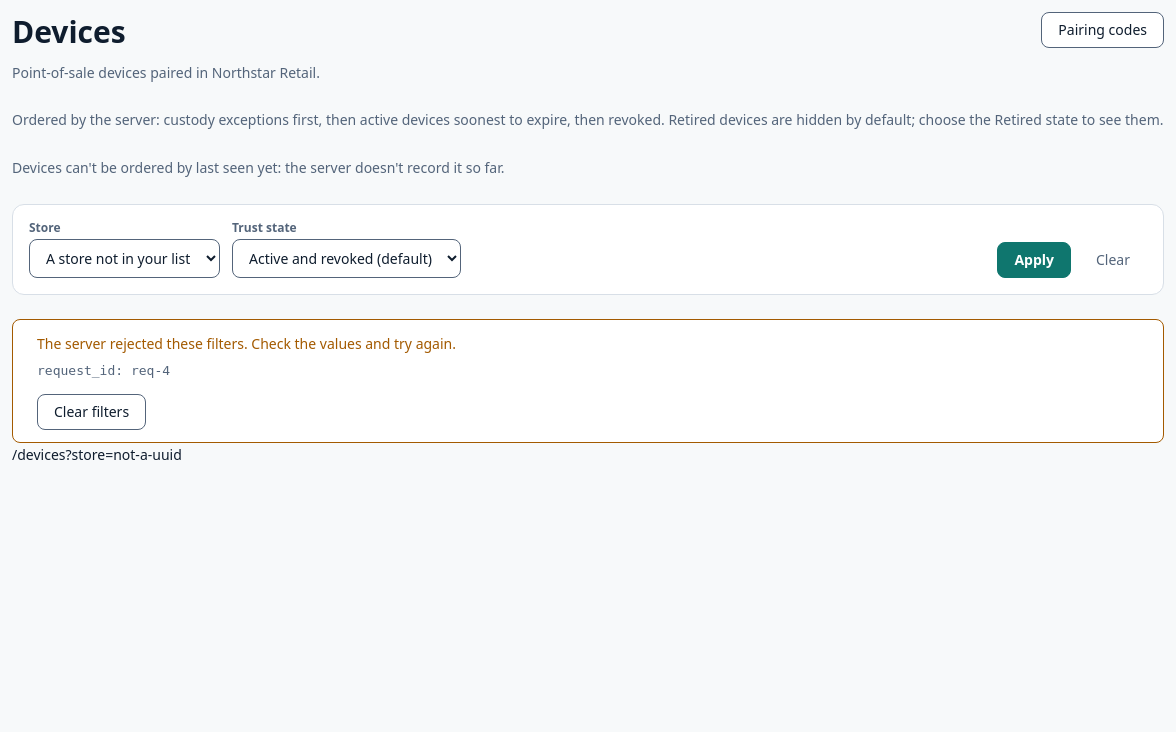
DeviceList (RT-371) › a rejected filter (400) offers Clear filters, not a retry of the same request
Click the button "Clear filters" at (92, 412), box x1=37 y1=394 x2=146 y2=430
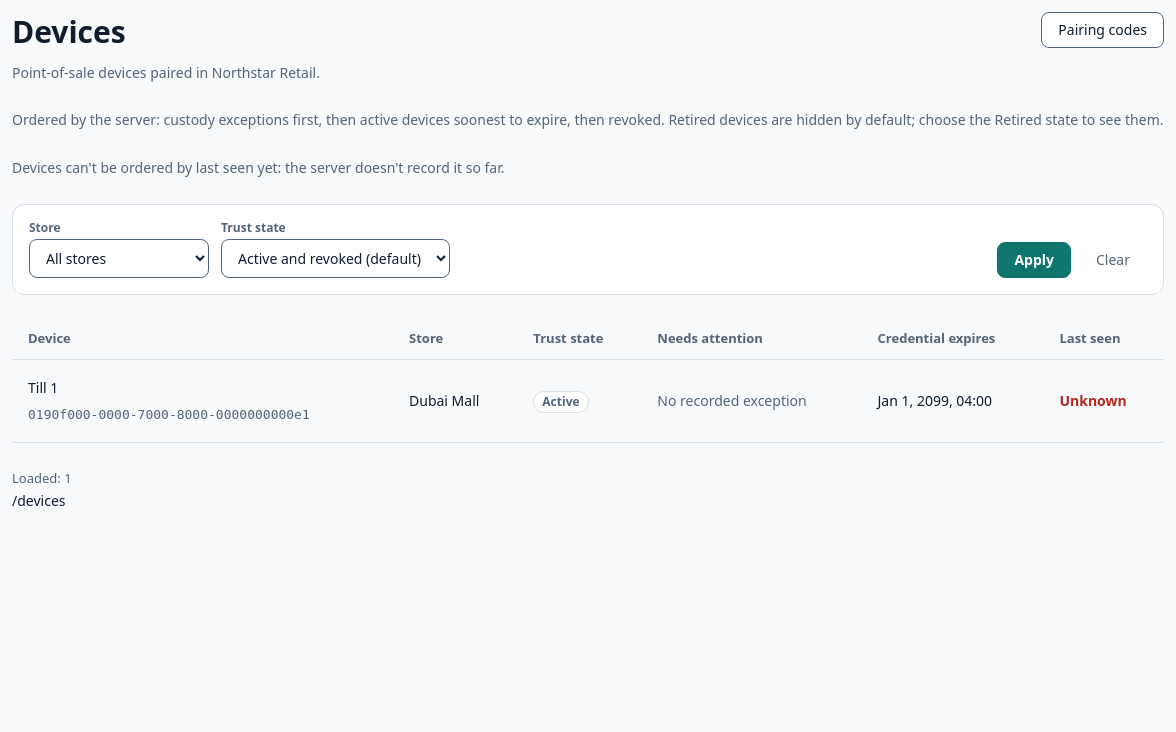
Check: the text with test id "location" reads "/devices", box x1=12 y1=491 x2=66 y2=510
